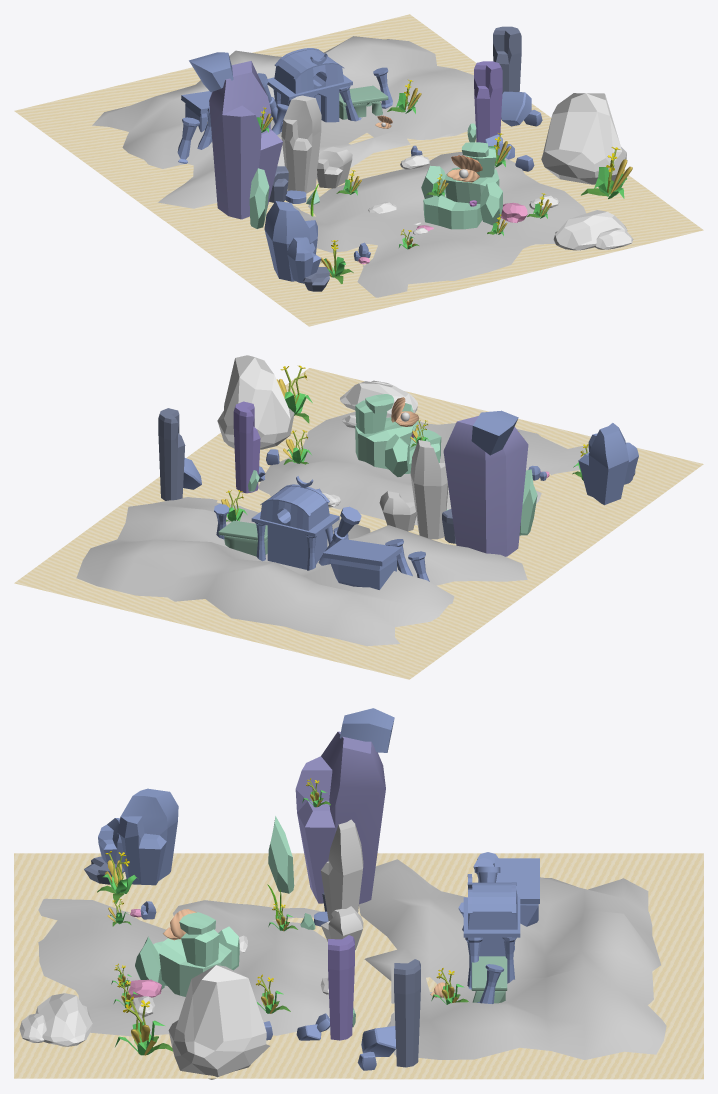
Rendered from under water bg.fbx.
3 renders of one model, top to bottom at view 1: azimuth 30°, elevation 25°; view 2: azimuth 150°, elevation 25°; view 3: azimuth 270°, elevation 25°, orthographic. The views are drawn at different scales.
Parts seen in each view (by area): view 1: pPlane2, pPlane19, pPlane1, pPlane18, polySurface196, stone_12, polySurface193, polySurface71, polySurface162, polySurface180, stone_10, stone3 (+18 smaller); view 2: pPlane19, pPlane18, pPlane2, pPlane1, polySurface196, stone_12, polySurface71, polySurface193, house_2, polySurface198, polySurface180, polySurface162 (+14 smaller); view 3: pPlane19, pPlane2, pPlane18, pPlane1, polySurface196, stone_12, polySurface71, polySurface193, polySurface198, polySurface162, stone_10, polySurface180 (+15 smaller).
Boxes of the visible parts, box(x1,y1,x2,y2) form: pPlane2: box(159, 121, 703, 326); pPlane19: box(92, 36, 475, 208); pPlane1: box(293, 152, 586, 297); pPlane18: box(14, 14, 551, 219); polySurface196: box(209, 61, 282, 219); stone_12: box(541, 93, 626, 184); polySurface193: box(281, 95, 321, 193); polySurface71: box(264, 201, 317, 281); polySurface162: box(474, 61, 502, 147); polySurface180: box(274, 49, 343, 93); stone_10: box(553, 210, 627, 250); stone3: box(423, 195, 482, 229); pPlane19: box(76, 497, 527, 646); pPlane18: box(14, 476, 557, 679); pPlane2: box(186, 368, 703, 573); pPlane1: box(258, 411, 588, 524); polySurface196: box(443, 416, 528, 556); stone_12: box(217, 355, 294, 449); polySurface71: box(578, 423, 628, 505); polySurface193: box(410, 440, 448, 539); house_2: box(323, 539, 401, 589); polySurface198: box(158, 408, 185, 500); polySurface180: box(260, 486, 329, 530); polySurface162: box(233, 401, 260, 493); pPlane19: box(359, 859, 666, 1059); pPlane2: box(14, 853, 364, 1078); pPlane18: box(354, 853, 703, 1079); pPlane1: box(38, 898, 330, 1036); polySurface196: box(295, 731, 385, 904); stone_12: box(168, 965, 269, 1079); polySurface71: box(117, 788, 178, 885); polySurface193: box(321, 819, 363, 920); polySurface198: box(394, 959, 420, 1067); polySurface162: box(328, 935, 354, 1040); stone_10: box(35, 993, 92, 1046); polySurface180: box(468, 882, 517, 929).
Bounding box in the file's own units: 371 × 144 × 478.
